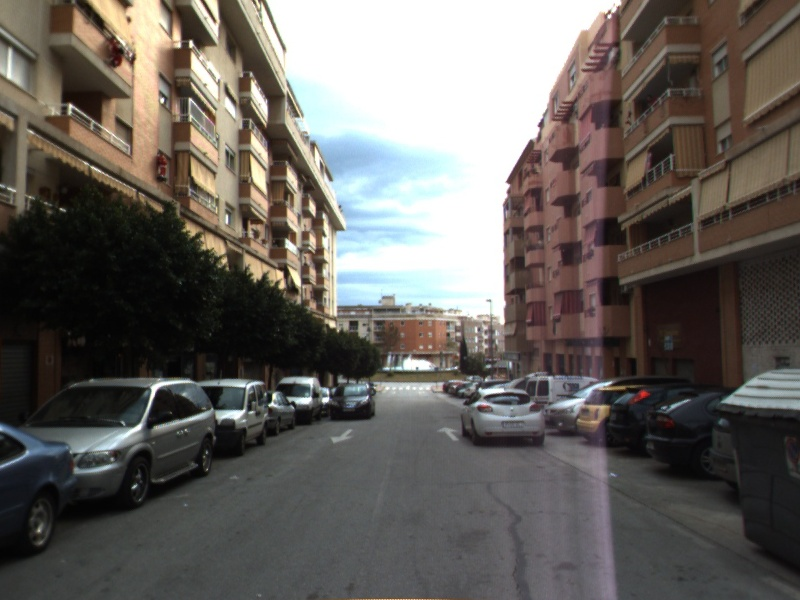STRAIGHT: (435, 425, 462, 443)
